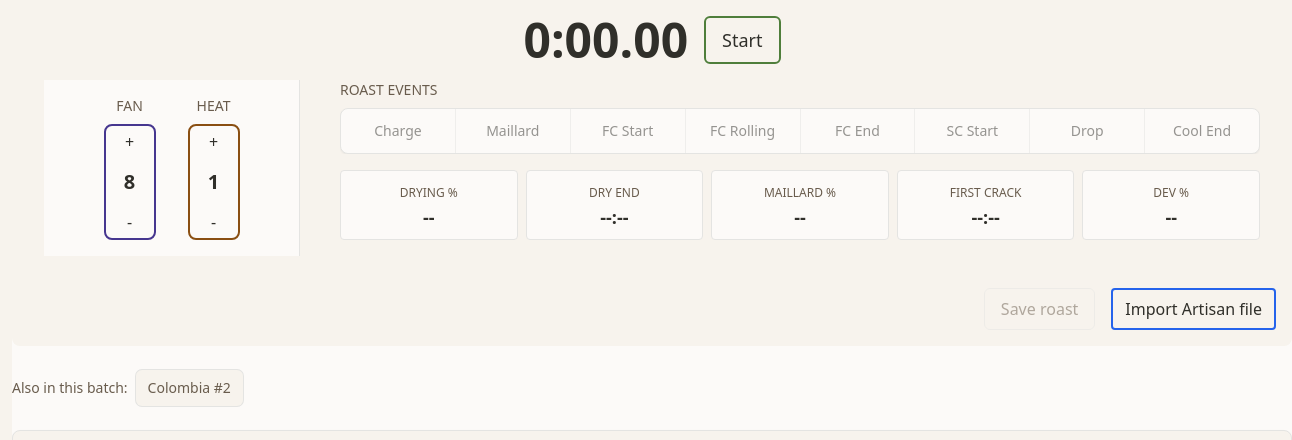
Test: roast page live logging › starts the timer and records the start of the roast
(page scrolled)
Click the button with id "start-end-roast" at x=742, y=40, box [704, 16, 780, 64]
(page scrolled)
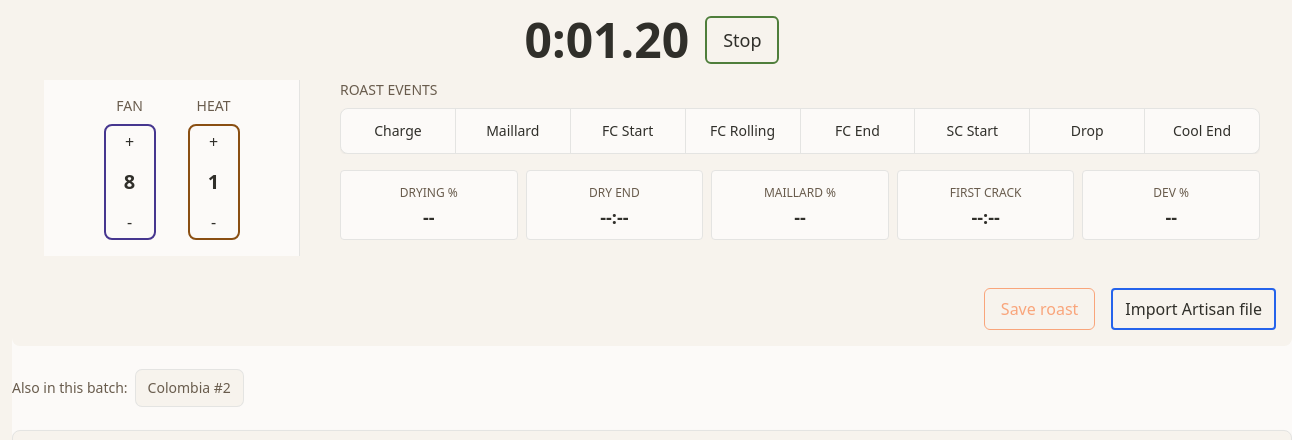
Expected: the button with id "start-end-roast" reads "Stop", [705, 16, 779, 64]
